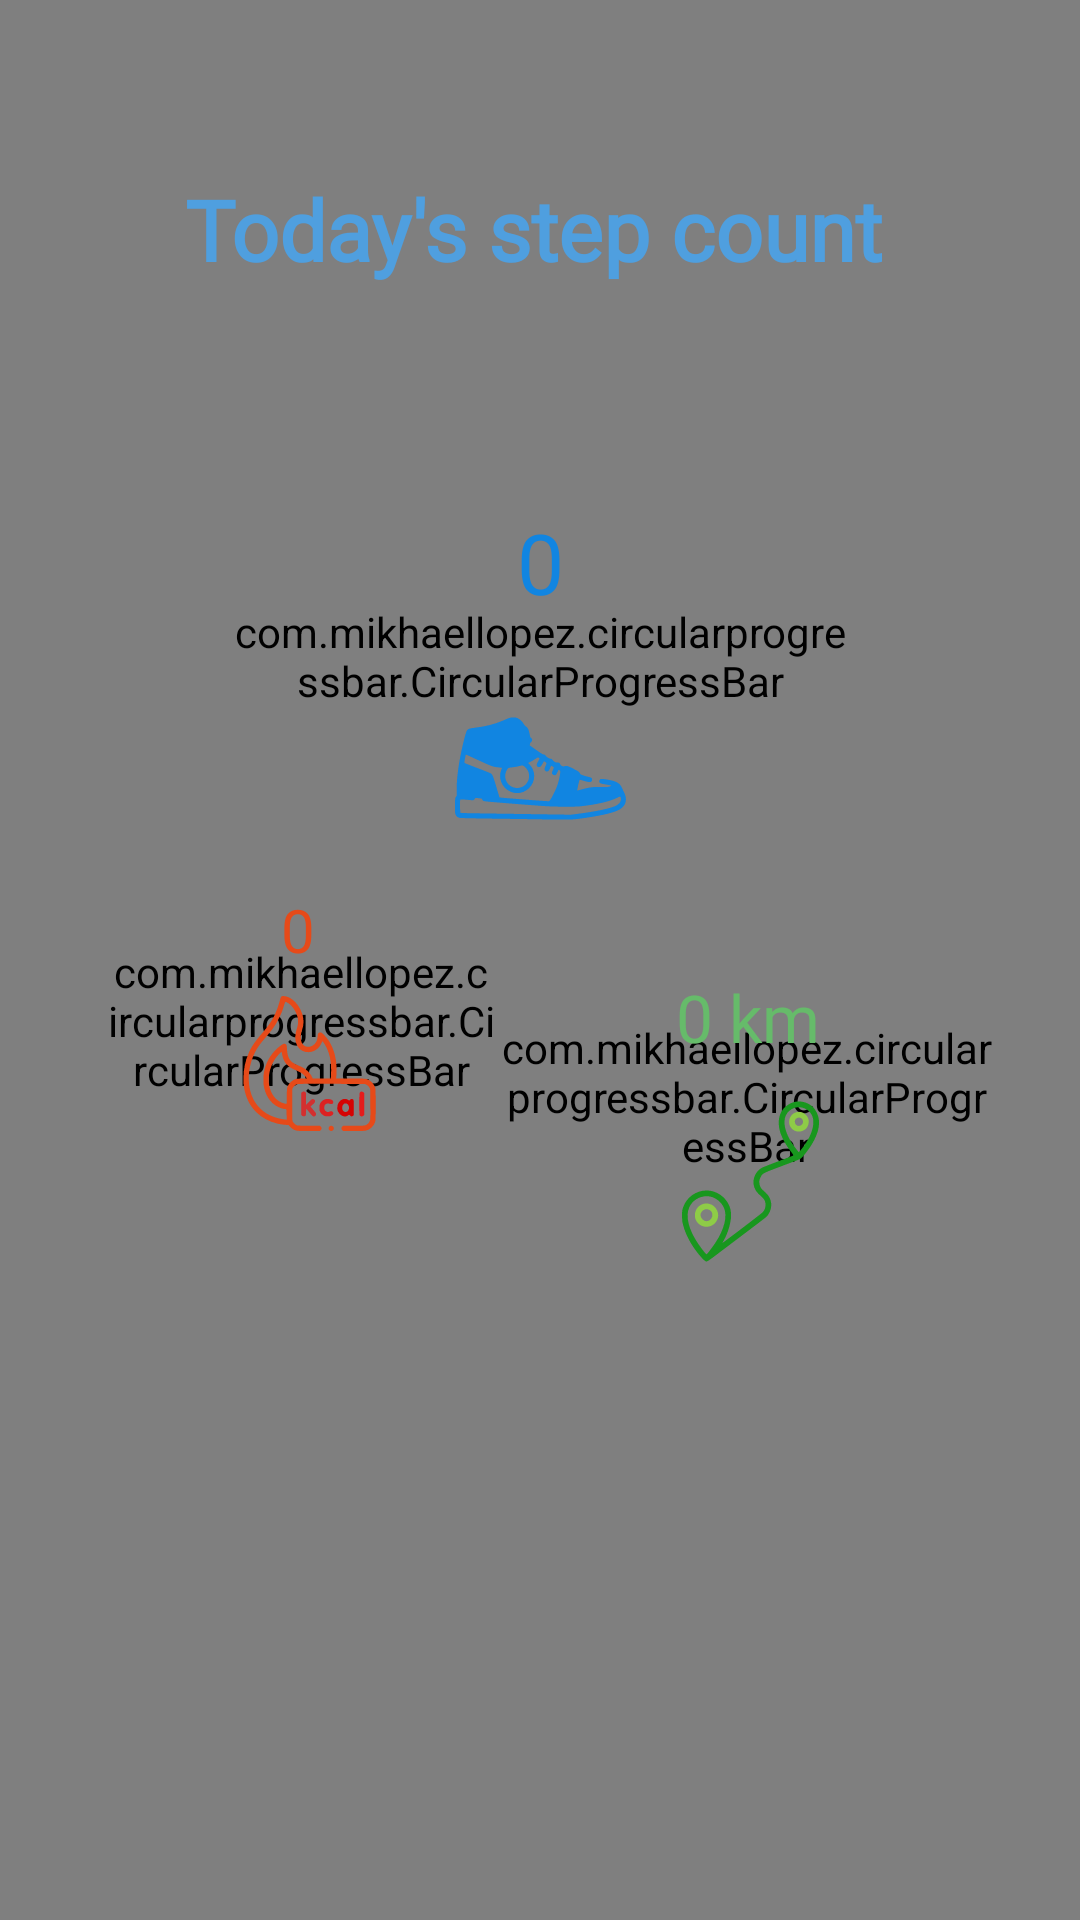

Icons on this 1080*1920 Android screen, each with its box as (x1, y1, x2, y2):
distance: (652, 1090, 835, 1262)
sneakers: (455, 717, 626, 820)
